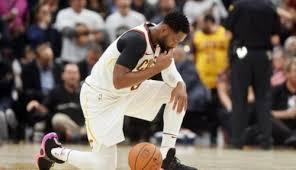bending: (33, 9, 197, 169)
